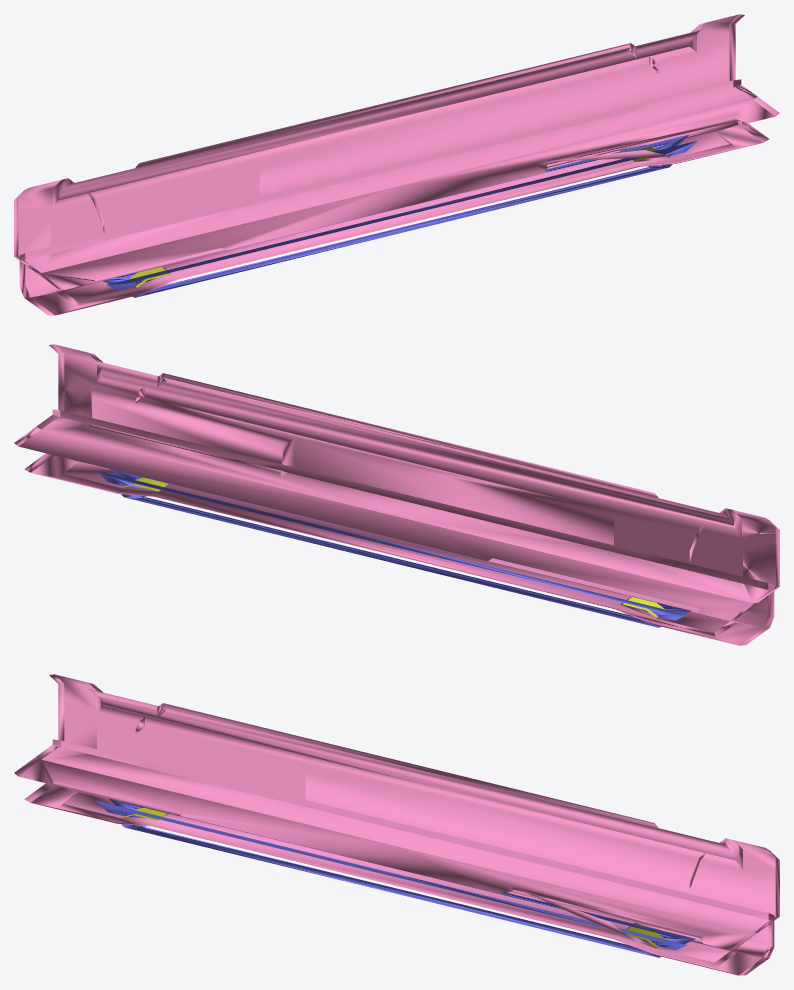
Rendered from roomlg_b_addon_pilar_archway_08x01x02_lod2.glb.
3 renders of one model, top to bottom at view 1: azimuth 30°, elevation 25°; view 2: azimuth 150°, elevation 25°; view 3: azimuth 330°, elevation 25°, orthographic.
Size of the model in its own units: 7.99 by 1.25 by 0.8852.
